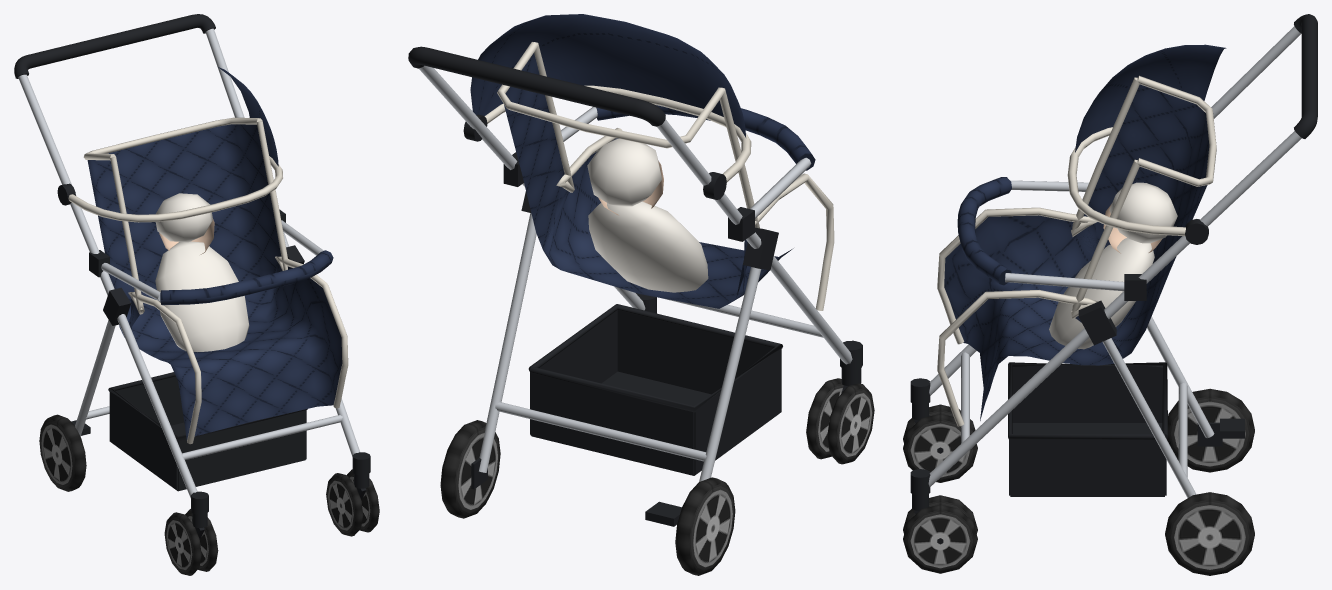
Rendered from stroller.glb.
3 renders of one model, left to right at view 1: azimuth 30°, elevation 25°; view 2: azimuth 150°, elevation 25°; view 3: azimuth 270°, elevation 25°, orthographic. The views are drawn at different scales.
Visible parts, largest first — view 1: Stroller, StrollerBaby, StrollerCanopy, StrollerRearWheelR, StrollerFrontWheelR, StrollerFrontWheelL; view 2: Stroller, StrollerCanopy, StrollerBaby, StrollerFrontWheelR, StrollerRearWheelR, StrollerRearWheelL; view 3: Stroller, StrollerCanopy, StrollerBaby, StrollerRearWheelL, StrollerFrontWheelL, StrollerRearWheelR, StrollerFrontWheelR.
Part boxes in pixels (<box>): Stroller: <box>14,14,370,514</box>; StrollerBaby: <box>155,193,249,351</box>; StrollerCanopy: <box>68,66,282,222</box>; StrollerRearWheelR: <box>39,414,86,491</box>; StrollerFrontWheelR: <box>164,509,218,575</box>; StrollerFrontWheelL: <box>326,469,379,536</box>; Stroller: <box>408,42,862,526</box>; StrollerCanopy: <box>470,14,751,182</box>; StrollerBaby: <box>587,139,708,292</box>; StrollerFrontWheelR: <box>806,378,874,464</box>; StrollerRearWheelR: <box>675,477,735,575</box>; StrollerRearWheelL: <box>440,420,500,518</box>; Stroller: <box>910,14,1317,497</box>; StrollerCanopy: <box>1067,44,1226,236</box>; StrollerBaby: <box>1049,182,1177,349</box>; StrollerRearWheelL: <box>1165,492,1254,575</box>; StrollerFrontWheelL: <box>903,495,977,573</box>; StrollerRearWheelR: <box>1166,388,1254,472</box>; StrollerFrontWheelR: <box>903,404,977,482</box>.
Size of the model in its own units: 0.5311 by 1.02 by 0.8312.
7 materials, 2 textured.
